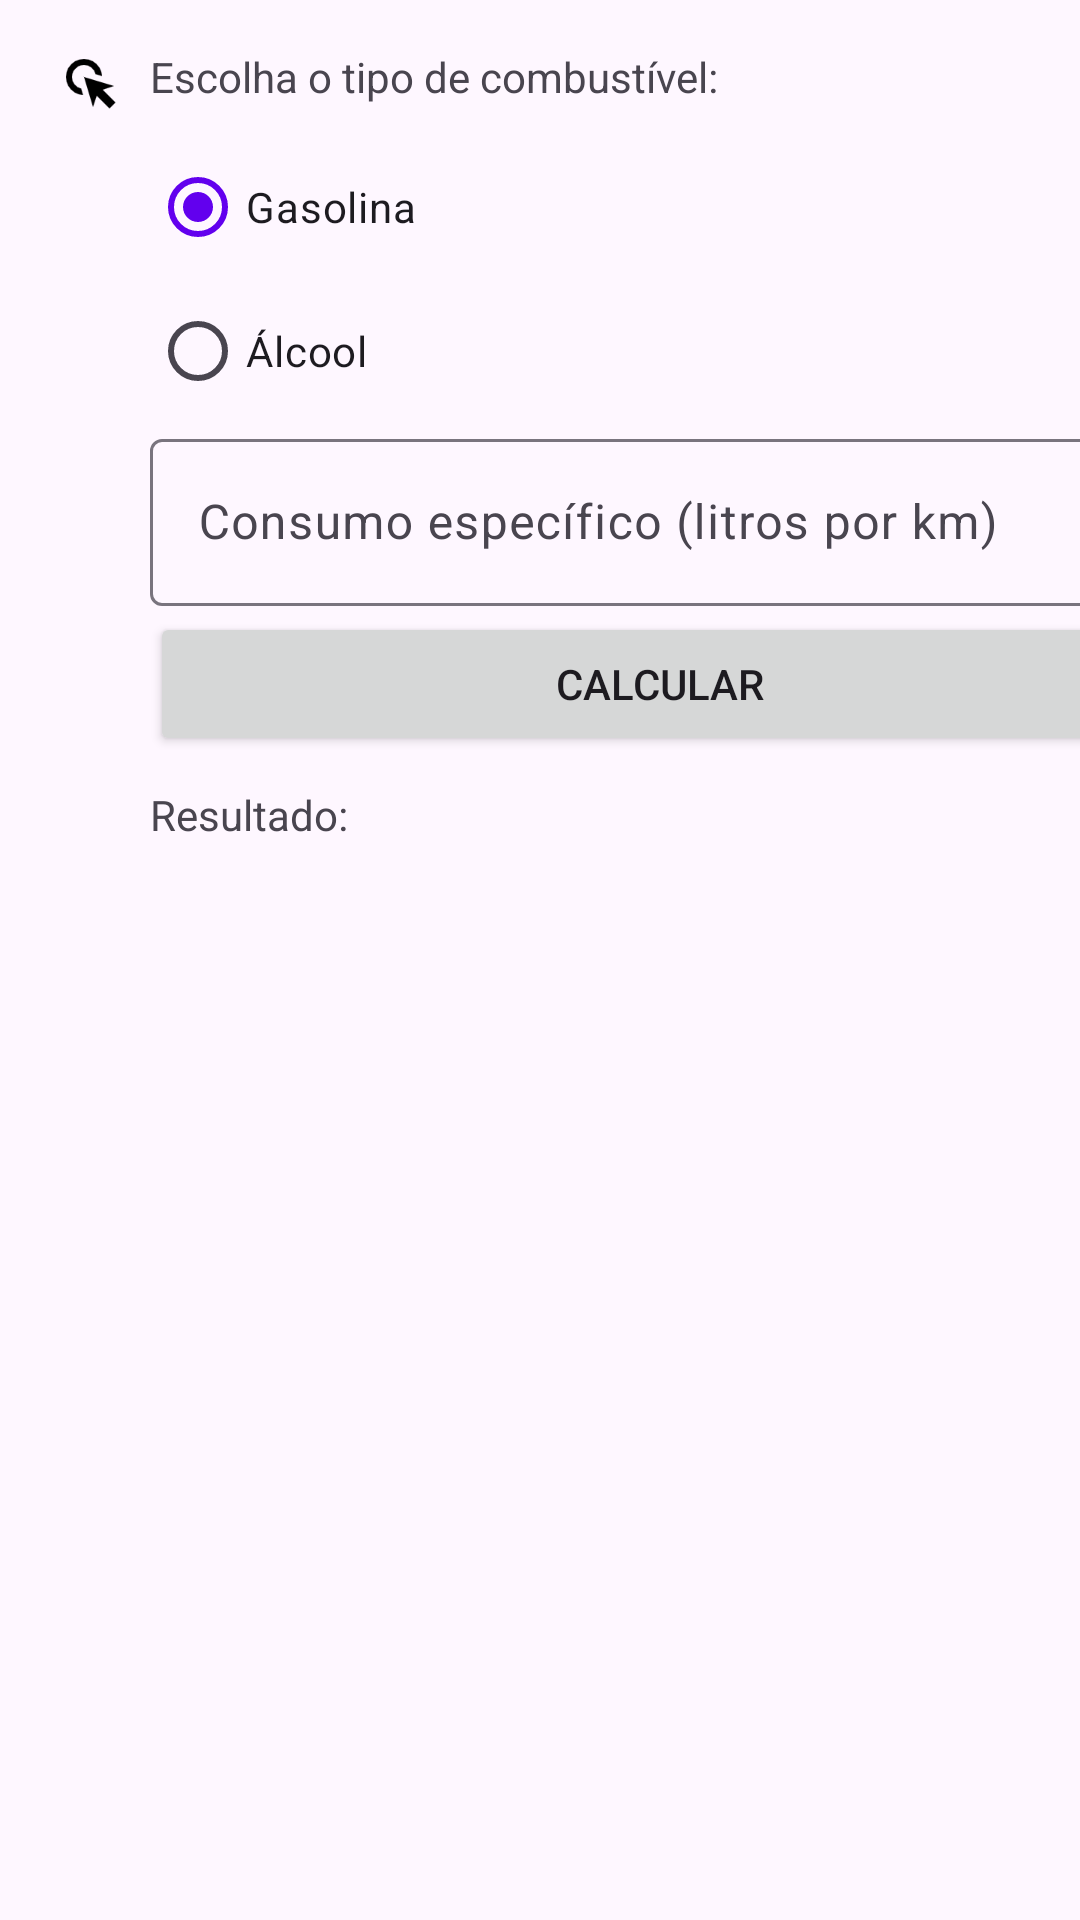

Icon bounding boxes for this 1080×1920 phone screenshot, format (x1, y1, x2, y2):
chooseclick: (66, 59, 116, 109)
